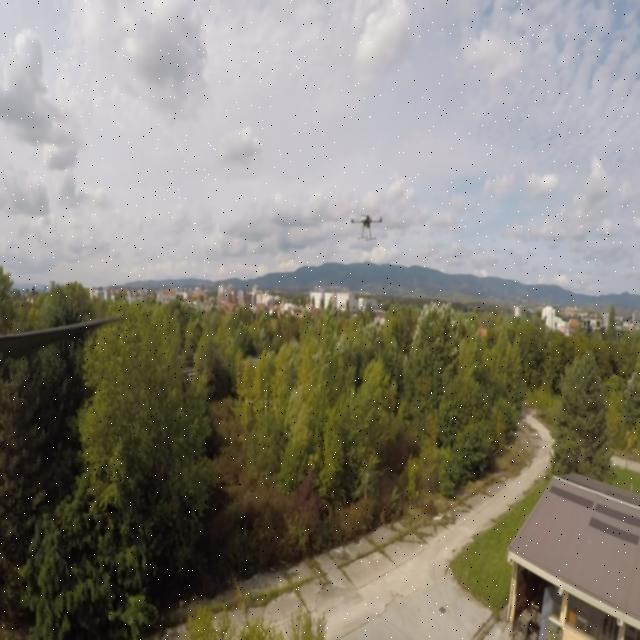UAV: (345, 208, 389, 240)
